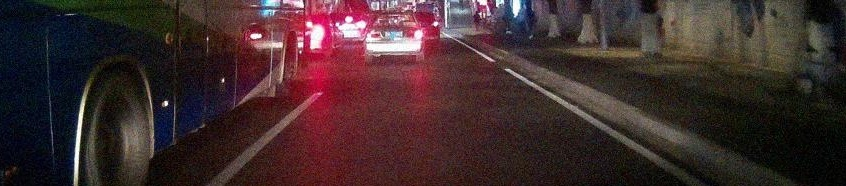L_light: (366, 31, 382, 39)
R_light: (405, 30, 422, 38)
T_light: (392, 15, 400, 18)
night-right: (365, 12, 423, 64)
